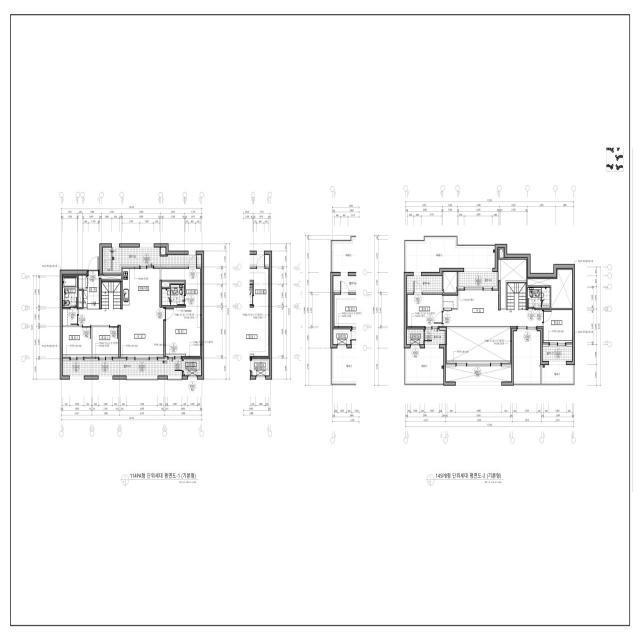space_balconi: (406, 239, 495, 272), (103, 247, 201, 271), (63, 359, 182, 376), (406, 348, 443, 382), (458, 272, 496, 287), (407, 276, 442, 292), (543, 365, 572, 382), (543, 347, 572, 361), (425, 330, 445, 345)
space_bedroom: (166, 307, 201, 356), (408, 295, 442, 326), (543, 310, 572, 342), (63, 327, 91, 357), (93, 327, 118, 357)
space_dressroom: (161, 269, 201, 307)
space_front: (83, 276, 99, 309)
space_kitchen: (123, 269, 160, 308)
space_living_room: (79, 307, 164, 357), (443, 291, 542, 326)
space_other: (447, 327, 510, 363), (528, 270, 572, 308), (514, 331, 540, 382), (500, 260, 526, 308), (446, 367, 511, 382), (101, 282, 121, 309), (507, 282, 526, 310), (443, 272, 457, 293), (63, 309, 78, 325), (443, 296, 457, 309), (162, 282, 184, 287), (101, 275, 121, 280), (79, 275, 86, 289), (79, 291, 82, 307), (500, 249, 503, 258)
space_outdoor_room: (183, 359, 201, 375), (407, 329, 423, 344)
space_toilet: (162, 285, 184, 305), (528, 288, 550, 308), (63, 277, 77, 307)
